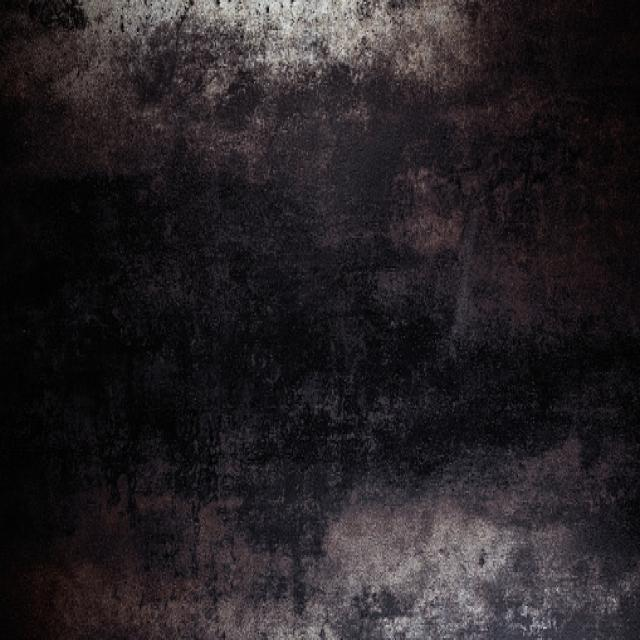corrosion: (0, 0, 640, 640), (336, 500, 583, 640), (93, 1, 486, 76)
